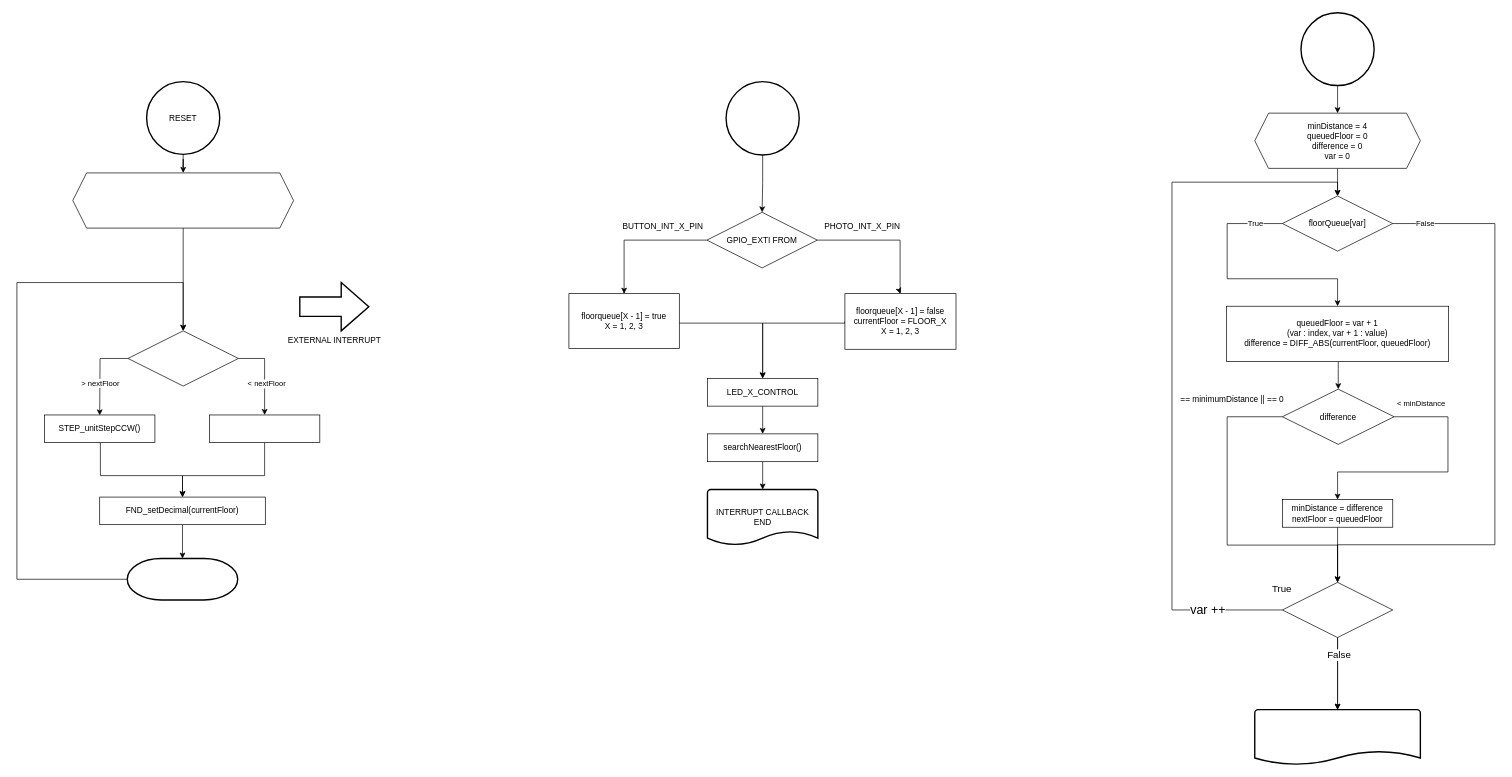
Some shapes in this 1512 by 777 pixel diagram are drawn without their labels. Each missing label, with the centre of its shape:
"currentFloor" goes at [182,358].
"floorQueue[4] = {false,} currentFloor = FLOOR_1 nextFloor = FLOOR_1" goes at [183,200].
"INTERRUPT CALLBACK" goes at [762,118].
"NEXT LOOP" goes at [182,579].
"Search Nearest Floor" goes at [1337,49].
"Search Nearest Floor END" goes at [1337,737].
"STEP_unitStepCW()" goes at [264,428].
"var < 4" goes at [1337,610].
